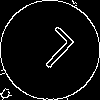L: (25, 25, 77, 78)
